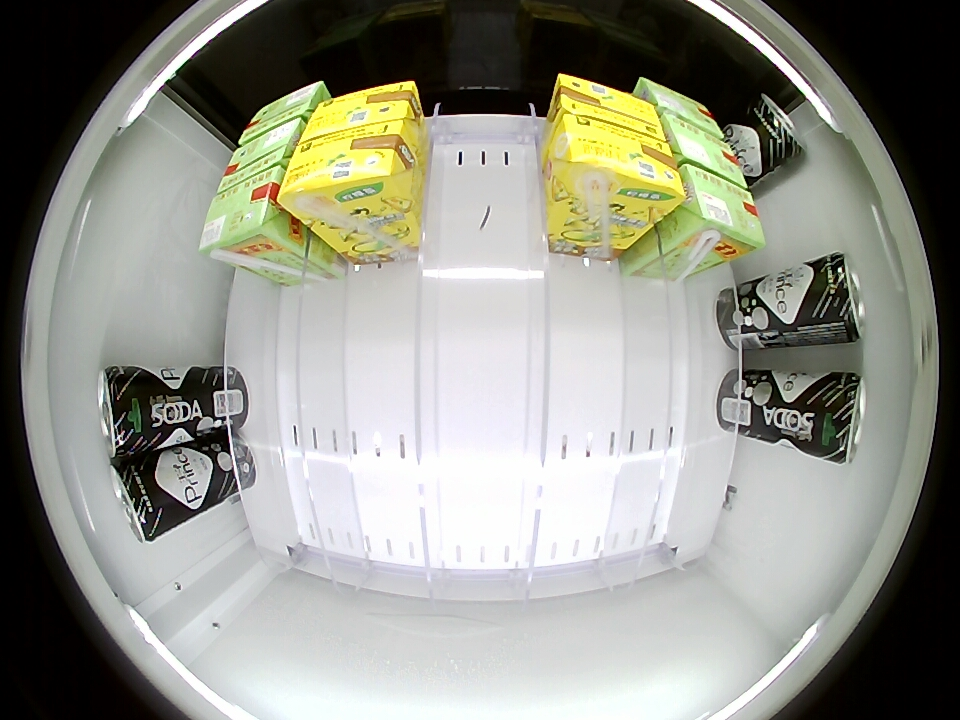qingdaowangzi-1: (810, 371, 866, 465), (98, 364, 152, 460), (110, 460, 172, 543), (811, 253, 866, 345), (747, 93, 805, 164)
wanglaoji: (199, 165, 291, 263), (676, 163, 765, 258), (661, 115, 749, 185), (240, 80, 331, 144), (220, 120, 303, 188), (635, 78, 724, 138)
weitaningmeng: (278, 121, 420, 224), (549, 111, 685, 217), (551, 73, 665, 139), (300, 81, 420, 143)
